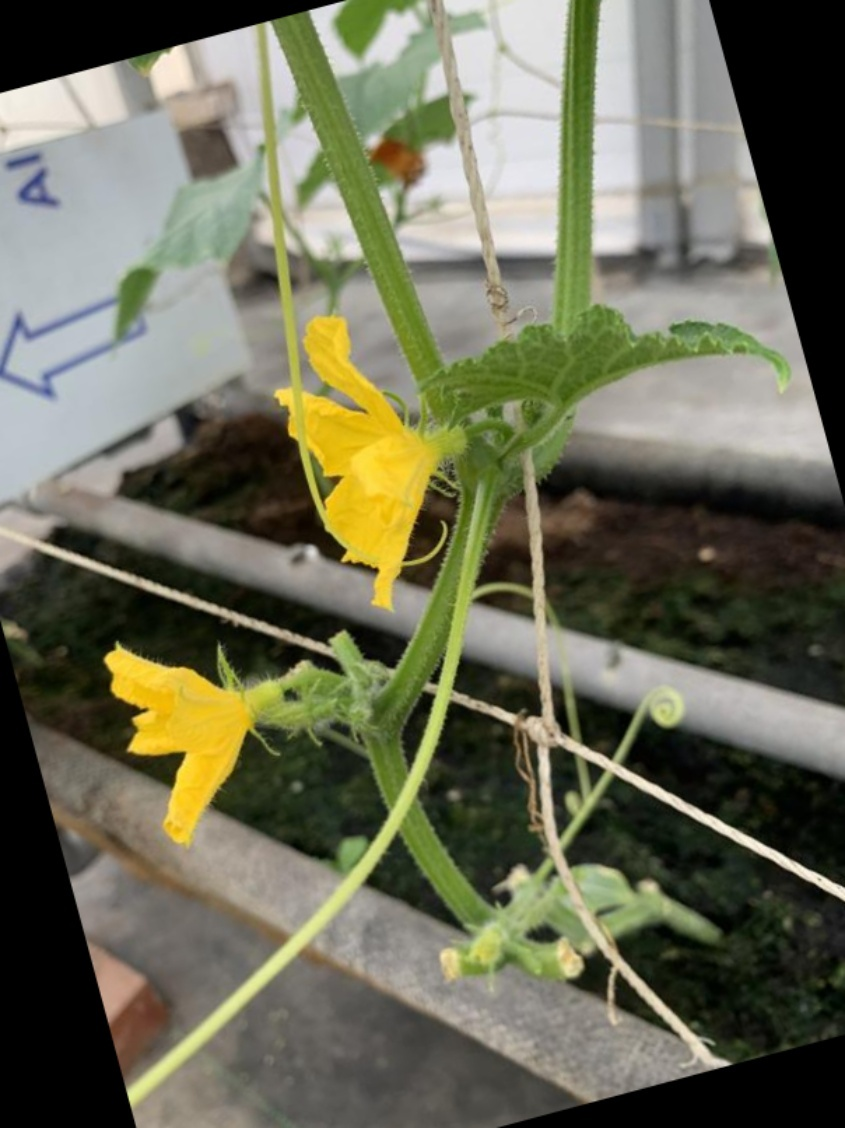flowering: (98, 621, 285, 850)
